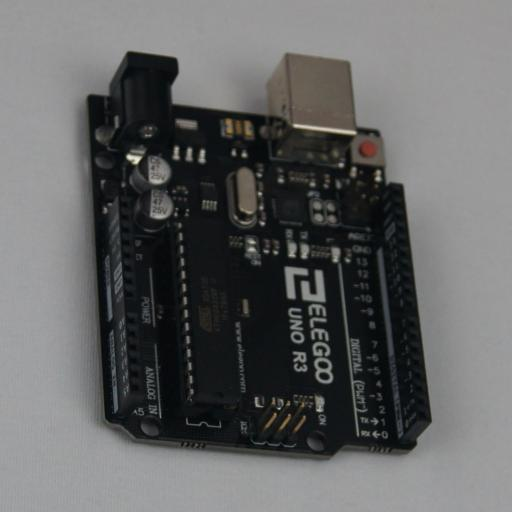Arduino Uno -Black-: (84, 51, 432, 461)
